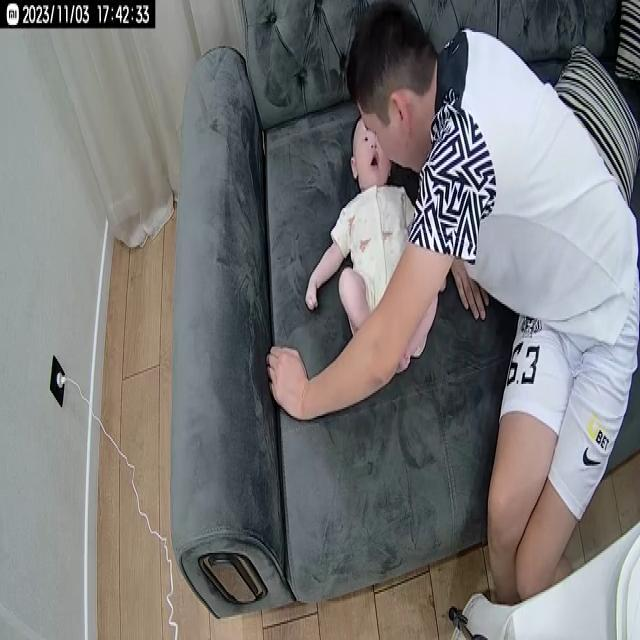baby: (304, 110, 448, 385)
